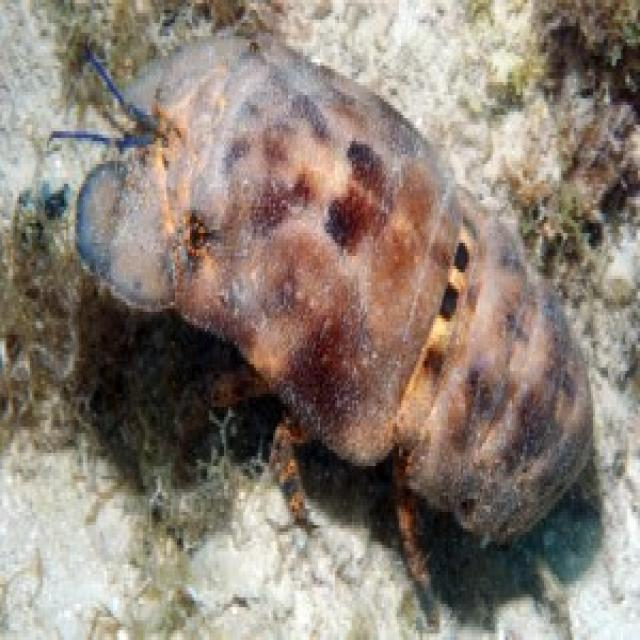lobsters: (23, 4, 636, 628)
